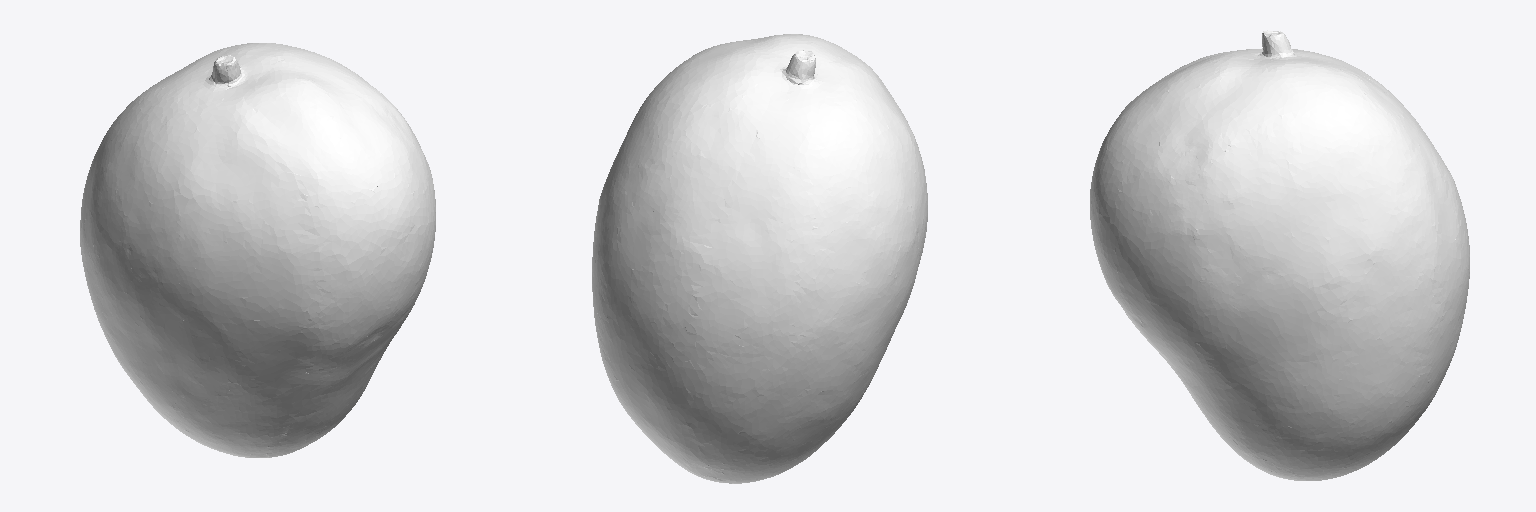
The model's file is AppleMango.obj.
The picture shows the model from 3 angles: view 1: azimuth 30°, elevation 25°; view 2: azimuth 150°, elevation 25°; view 3: azimuth 270°, elevation 25°; orthographic projection.
Parts seen in each view (by area): view 1: default; view 2: default; view 3: default.
Part boxes in pixels (bbox=[...]): default: bbox=[80, 43, 435, 457]; default: bbox=[592, 34, 927, 483]; default: bbox=[1090, 30, 1469, 480].
Bounding box in the file's own units: 0.063 × 0.0875 × 0.0724.